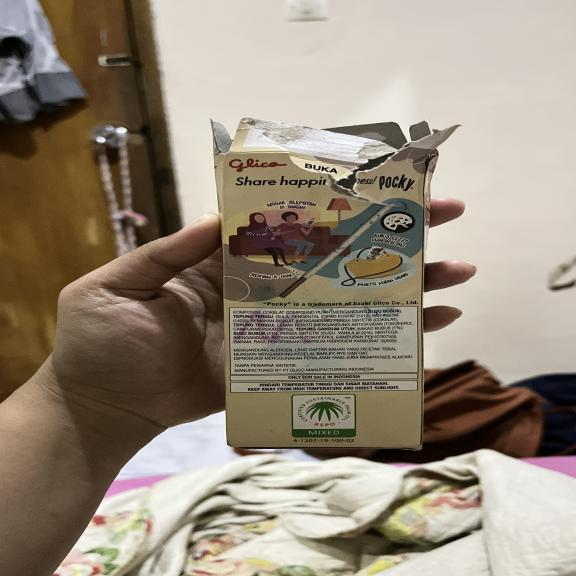Kertas: (218, 149, 432, 450)
